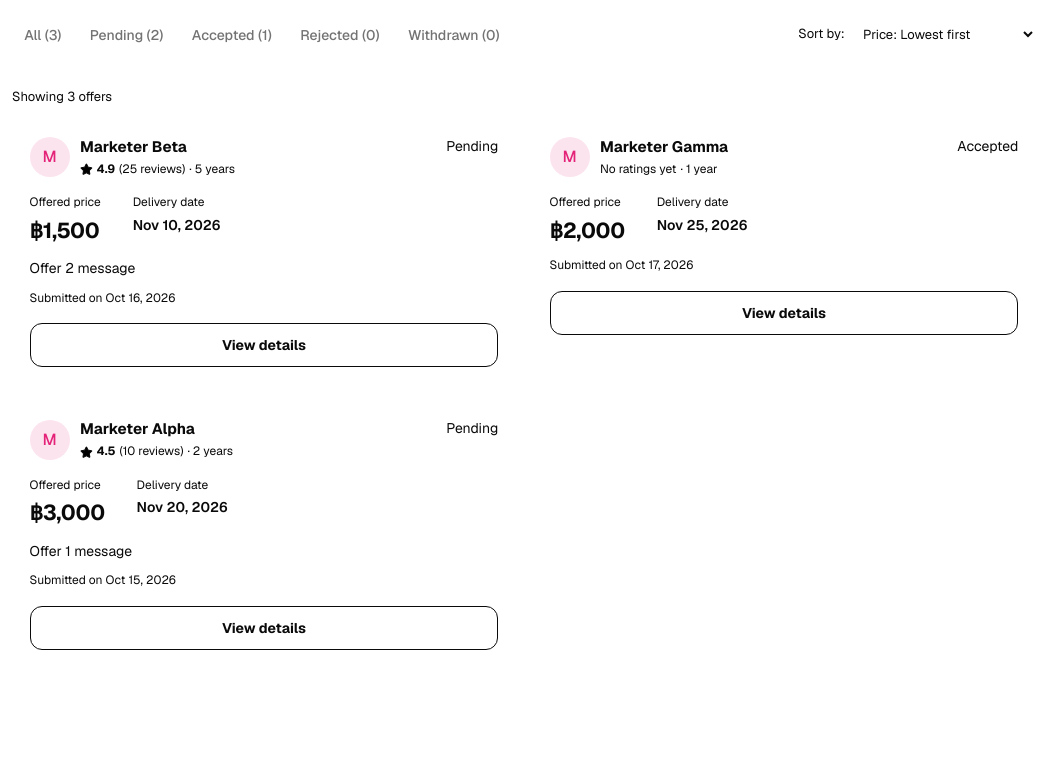
it: JobOffersCompare › filters offers by status
// Click Accepted tab
Click the tab "Accepted (1)" at (232, 35), box [180,13,284,57]
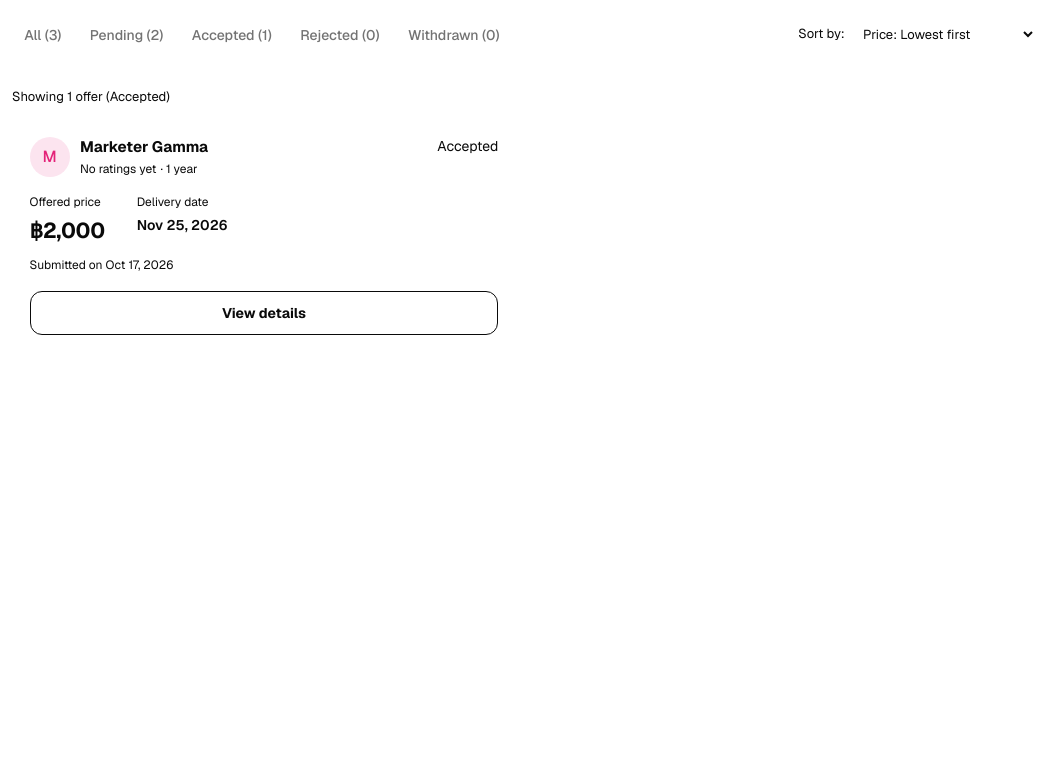
Expected: the text "Showing 1 offer (Accepted)" is shown, [12,88,170,105]
Expected: the heading "Marketer Alpha" is gone
Expected: the heading "Marketer Beta" is gone
// Click Pending tab
Click the tab "Pending (2)" at (127, 35), box [78,13,176,57]
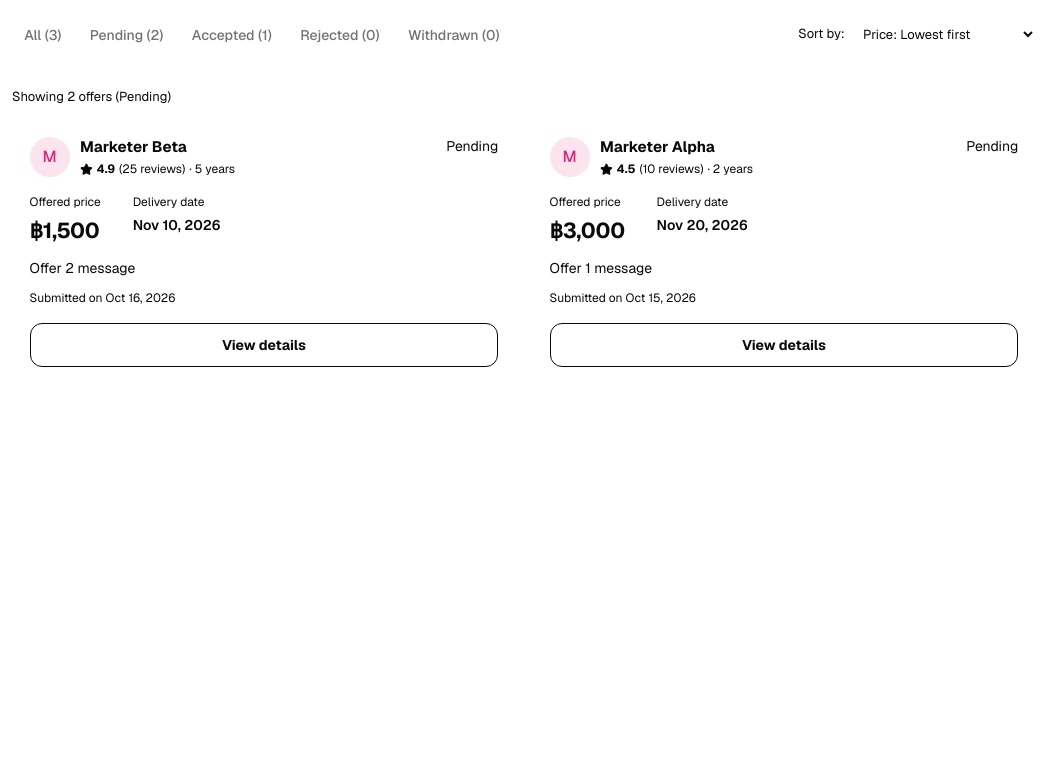
Expected: the text "Showing 2 offers (Pending)" is shown, [12,88,171,105]
Expected: the heading "Marketer Alpha" is shown, [600,137,715,156]
Expected: the heading "Marketer Beta" is shown, [80,137,187,156]
